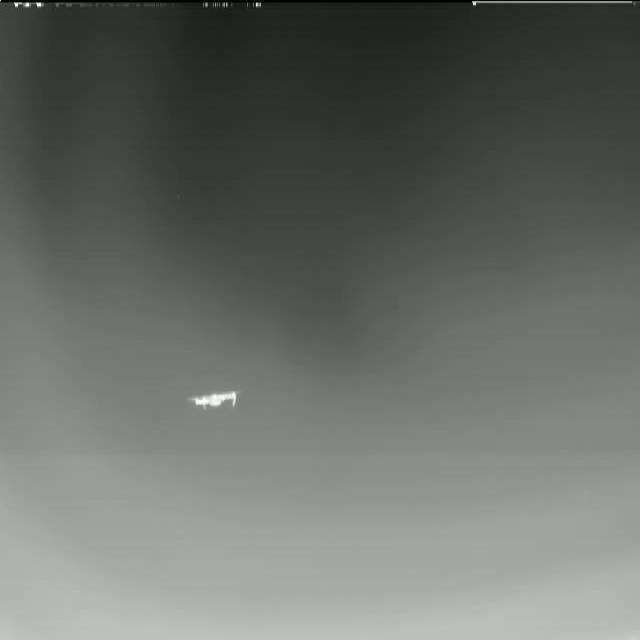DRONE: (181, 379, 247, 419)
